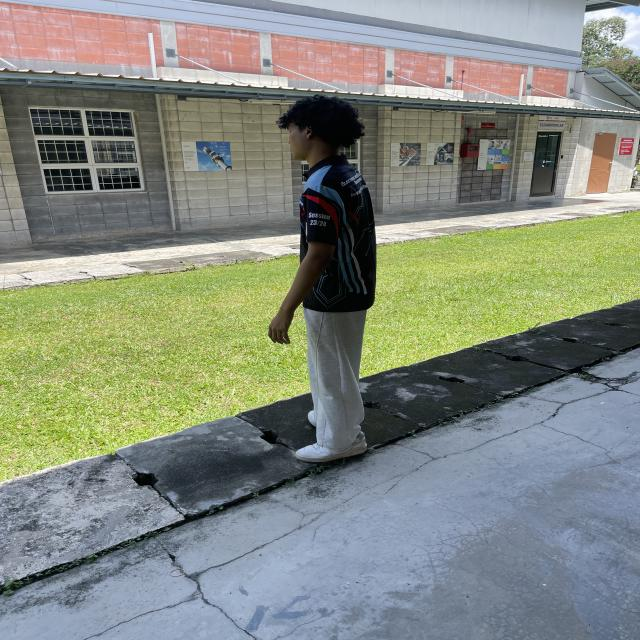person_without_labcoat: (268, 96, 376, 462)
